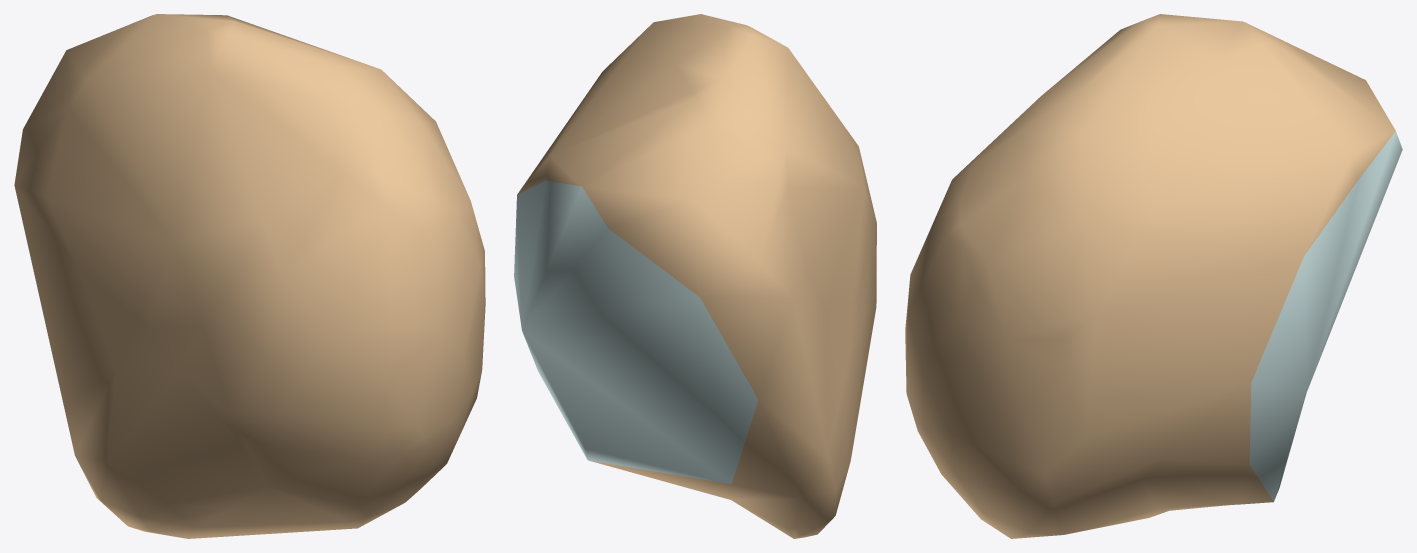
The model's file is Pisiform_bone.l_Generated_Mesh_From_X3D.713.glb.
3 renders of one model, left to right at view 1: azimuth 30°, elevation 25°; view 2: azimuth 150°, elevation 25°; view 3: azimuth 270°, elevation 25°, orthographic. The views are drawn at different scales.
Parts seen in each view (by area): view 1: Pisiform_bone.l_Generated_Mesh_From_X3D.713; view 2: Pisiform_bone.l_Generated_Mesh_From_X3D.713; view 3: Pisiform_bone.l_Generated_Mesh_From_X3D.713.
Part boxes in pixels (left/top/right/bottom): Pisiform_bone.l_Generated_Mesh_From_X3D.713: left=14, top=14, right=485, bottom=538; Pisiform_bone.l_Generated_Mesh_From_X3D.713: left=514, top=14, right=876, bottom=538; Pisiform_bone.l_Generated_Mesh_From_X3D.713: left=905, top=14, right=1402, bottom=538.
Bounding box in the file's own units: 0.00874 × 0.0122 × 0.0108.
